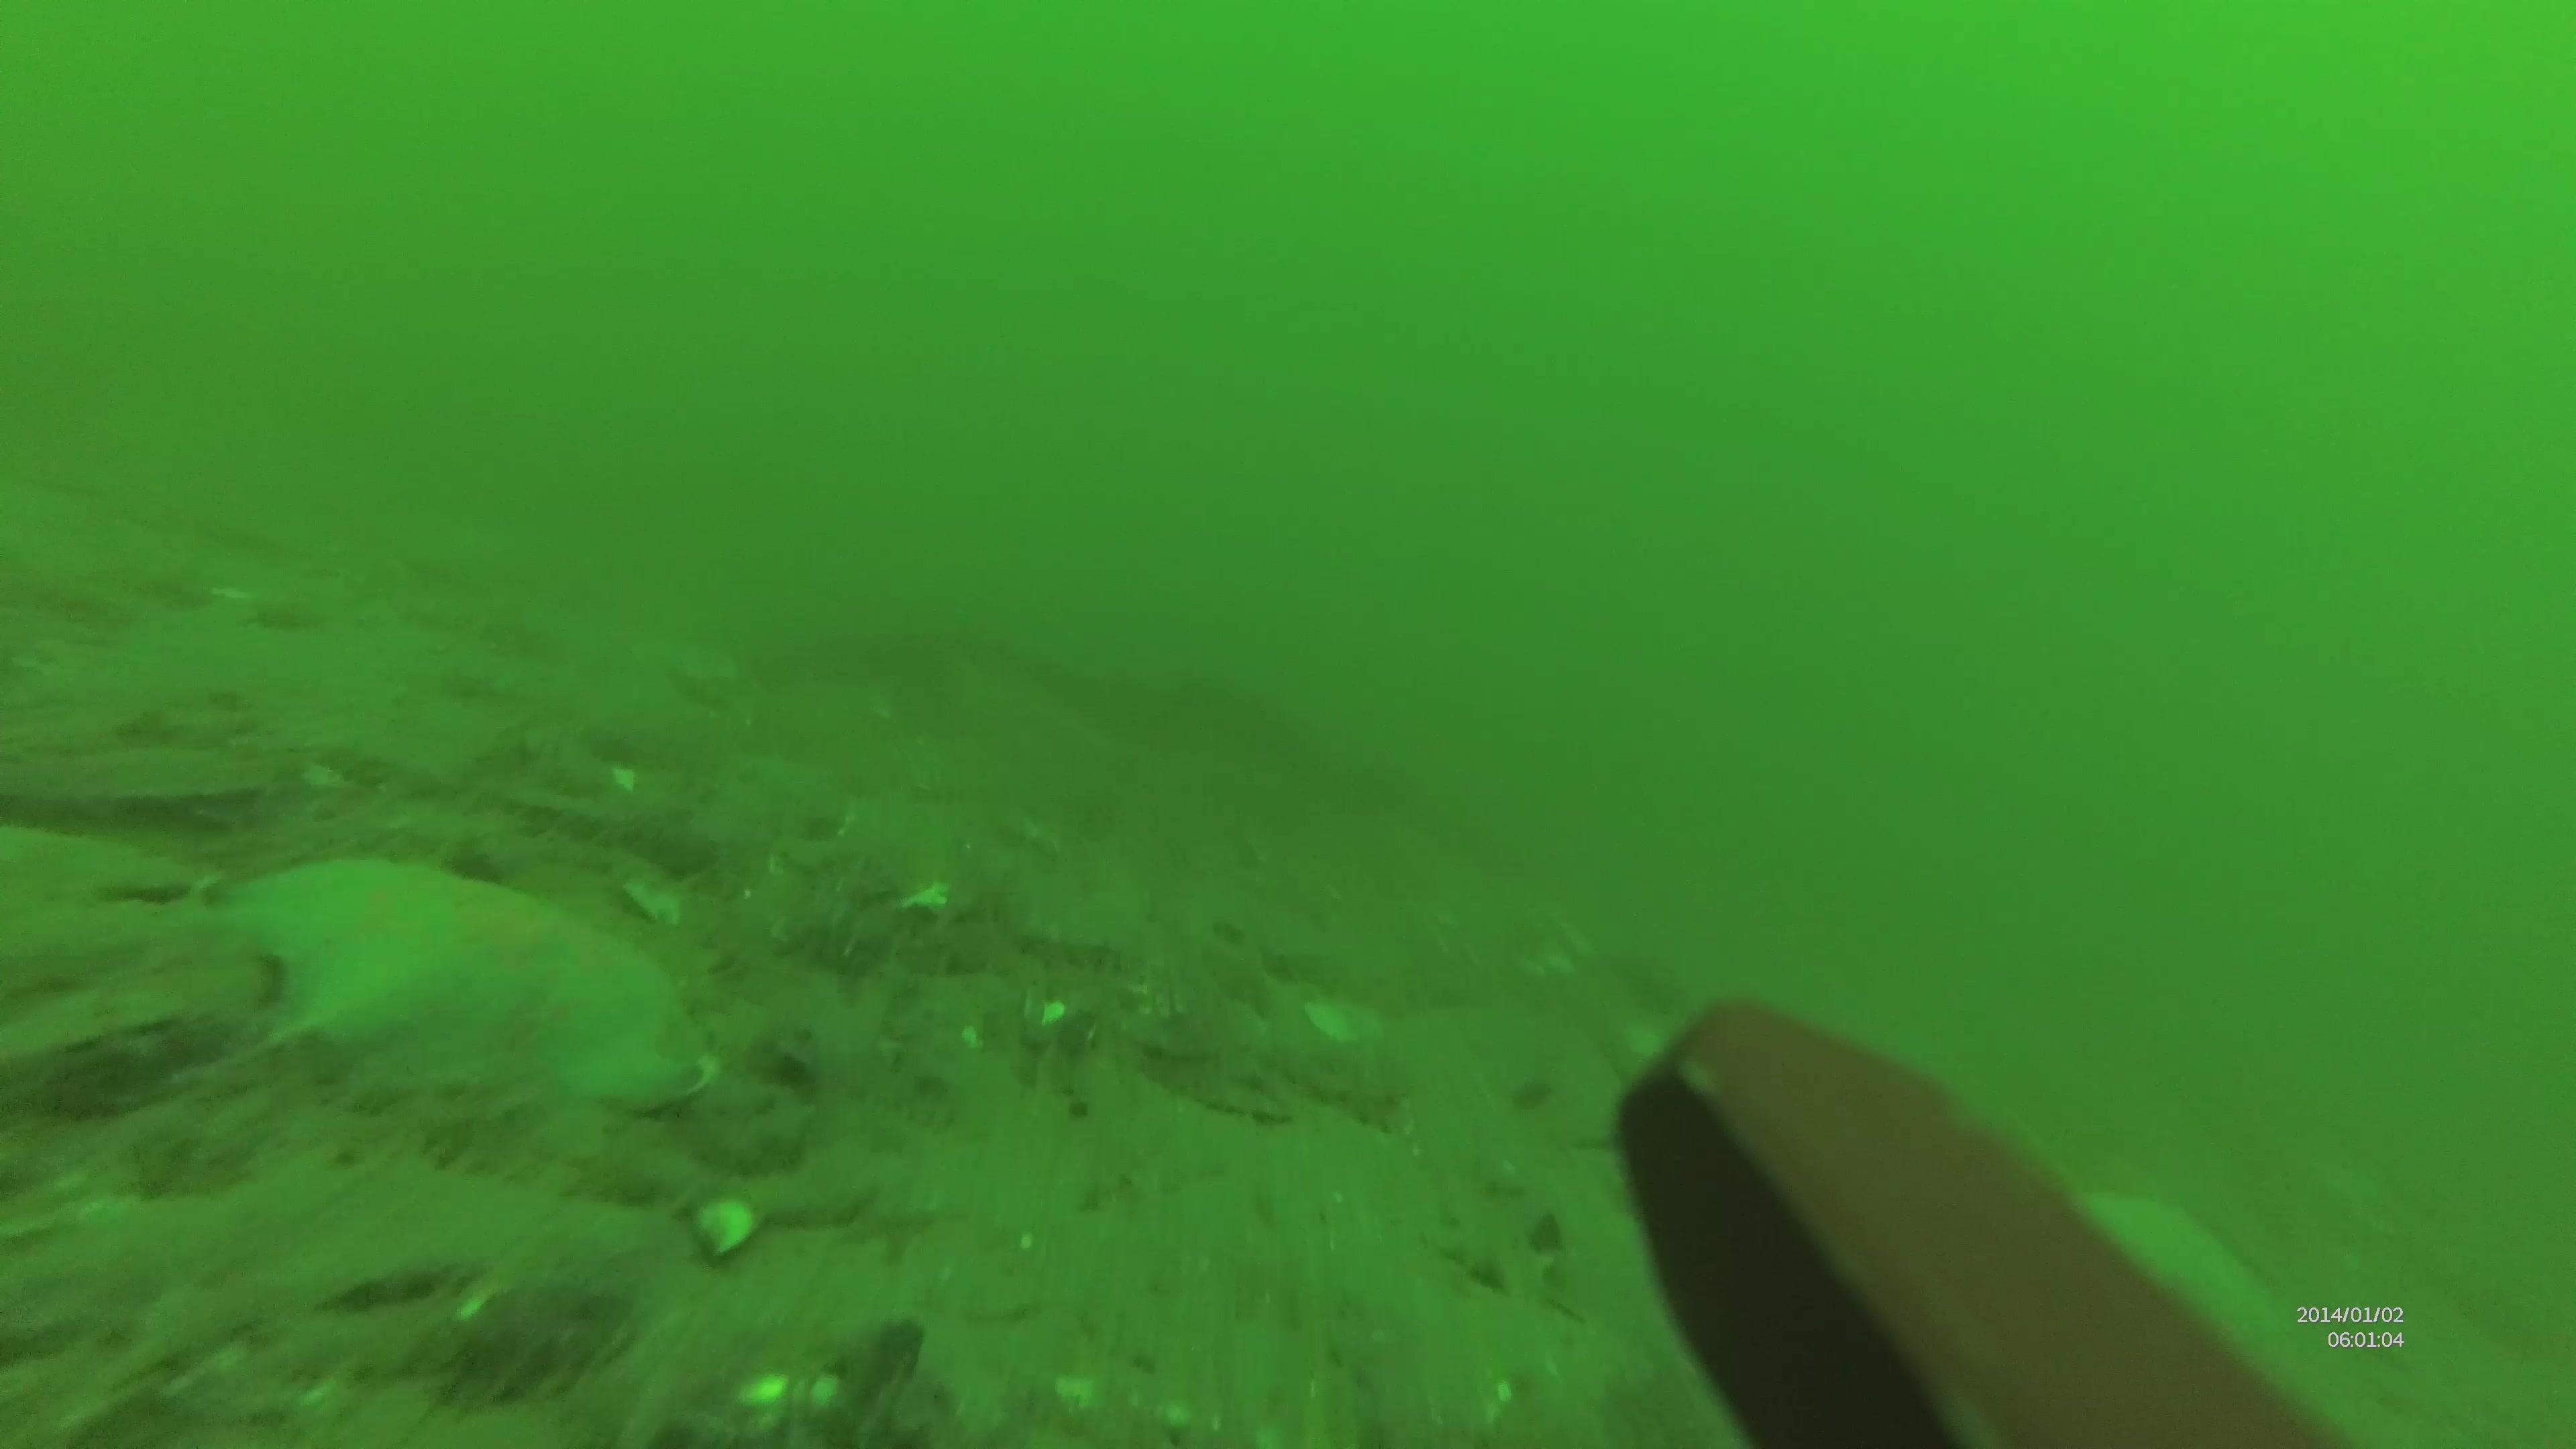echinus: (230, 862, 720, 1109)
